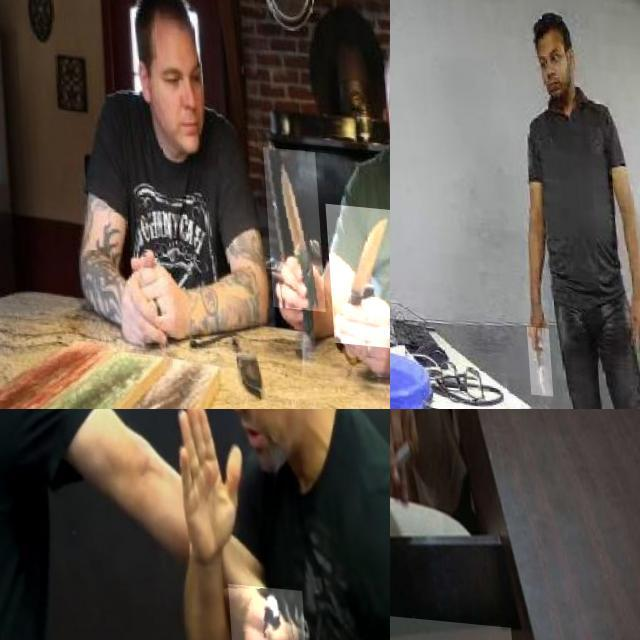-: (321, 196, 390, 340), (260, 141, 320, 305), (224, 576, 311, 640), (520, 322, 546, 392)
